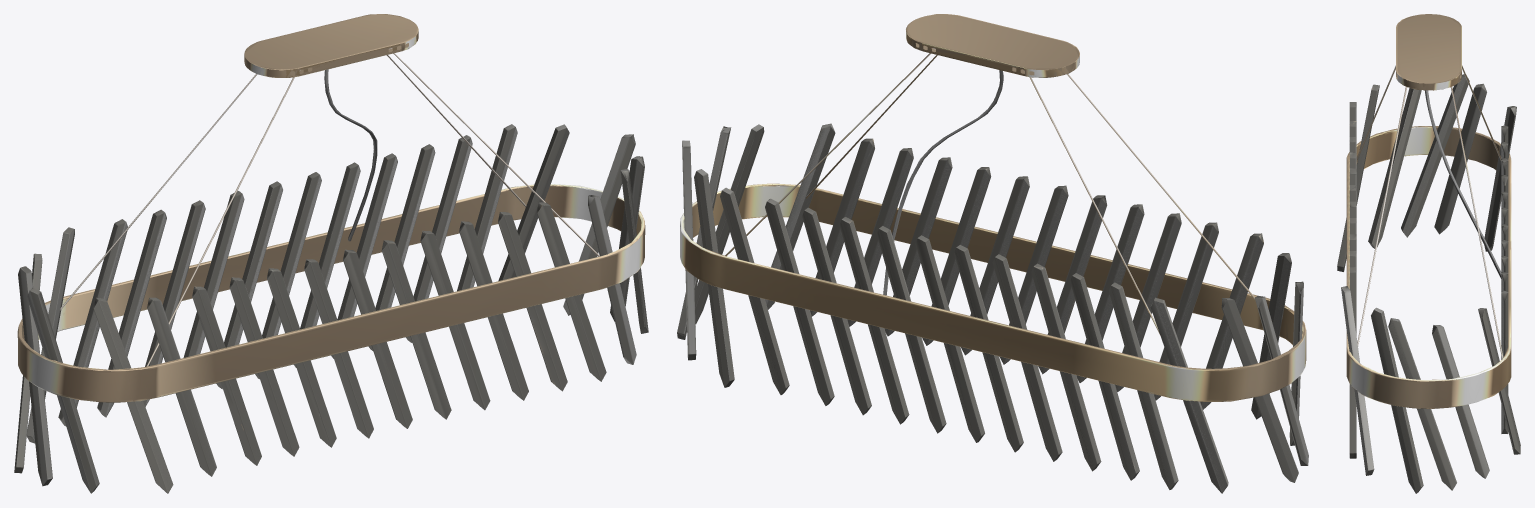
File: raw_model.obj
3 renders of one model, left to right at view 1: azimuth 30°, elevation 25°; view 2: azimuth 150°, elevation 25°; view 3: azimuth 270°, elevation 25°, orthographic. The views are drawn at different scales.
Parts seen in each view (by area): view 1: glass_001, solid_003, solid_002, glass_002; view 2: glass_001, solid_003, solid_002, glass_002; view 3: glass_001, solid_003, solid_002, glass_002.
Boxes of the visible parts, bbox=[...] form: glass_001: bbox=[14, 124, 648, 493]; solid_003: bbox=[17, 14, 645, 402]; solid_002: bbox=[60, 48, 599, 366]; glass_002: bbox=[324, 69, 377, 241]; glass_001: bbox=[677, 123, 1308, 493]; solid_003: bbox=[680, 14, 1306, 401]; solid_002: bbox=[725, 48, 1255, 335]; glass_002: bbox=[883, 70, 1003, 295]; glass_001: bbox=[1337, 74, 1520, 493]; solid_003: bbox=[1346, 14, 1511, 408]; solid_002: bbox=[1356, 65, 1503, 359]; glass_002: bbox=[1425, 90, 1501, 278].
Bounding box in the file's own units: 1.14 × 0.6329 × 0.3343.
Materials: 1 (1 with a texture image).
